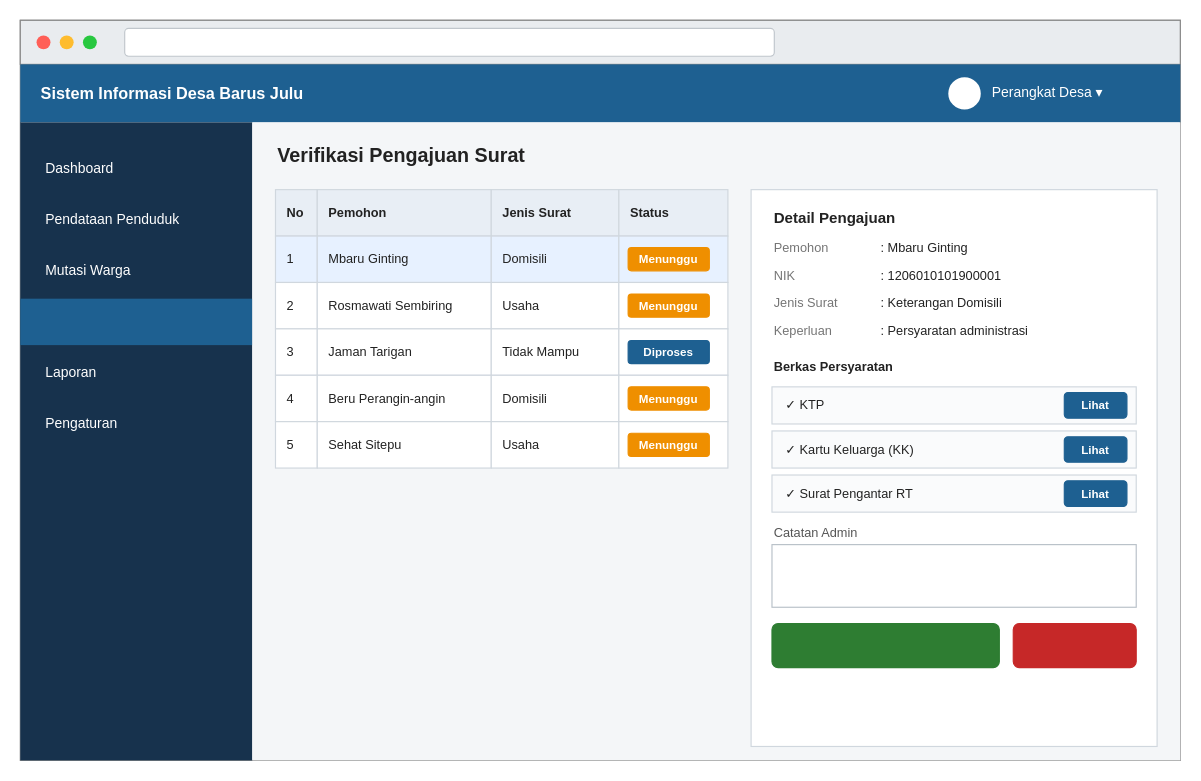
The diagram is 1201 pixels wide and 781 high, and some of its shapes have lost their labels. The shapes that lost their labels are listed below. From the top down, each one's box as (x1, y1, x2, y2) in pixels, then its label:
(124, 27, 774, 56): localhost/desa-barus-julu/admin/verifikasi
(20, 298, 252, 345): Verifikasi Surat
(771, 543, 1136, 607): Alasan penolakan (jika ditolak)
(771, 622, 999, 668): Setujui & Tanda Tangan
(1012, 622, 1136, 668): Tolak
